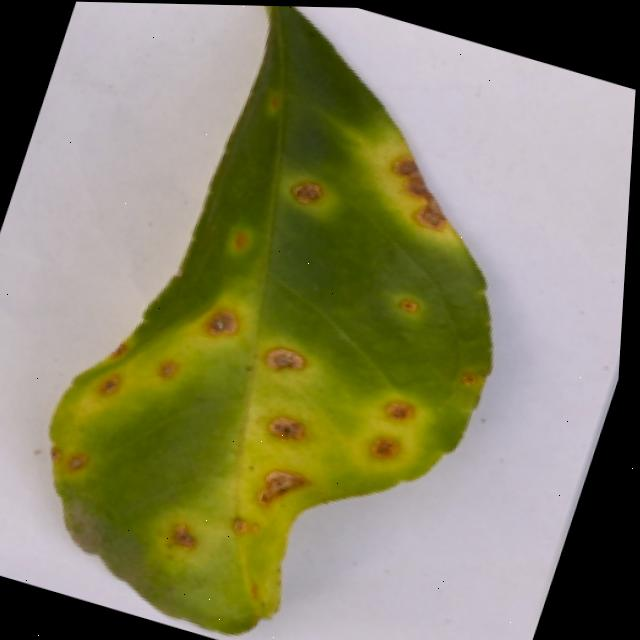canker: (48, 6, 490, 631), (0, 239, 255, 529), (277, 128, 461, 250), (387, 283, 434, 325), (254, 468, 307, 504), (265, 346, 302, 365), (269, 414, 302, 435), (168, 519, 193, 545), (170, 520, 195, 546), (369, 434, 398, 455), (230, 514, 255, 532), (387, 400, 414, 416)
